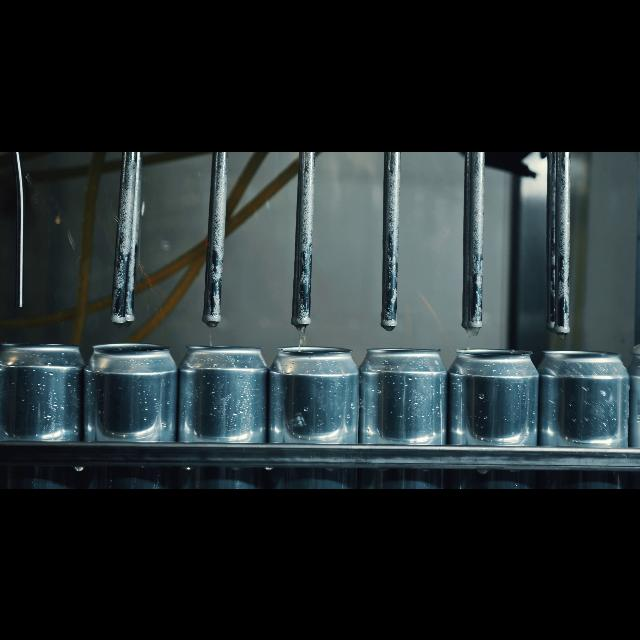empty: (90, 330, 176, 488), (181, 334, 267, 488), (542, 342, 630, 488), (452, 339, 536, 488), (275, 336, 357, 488), (364, 338, 446, 488), (3, 334, 82, 488)
